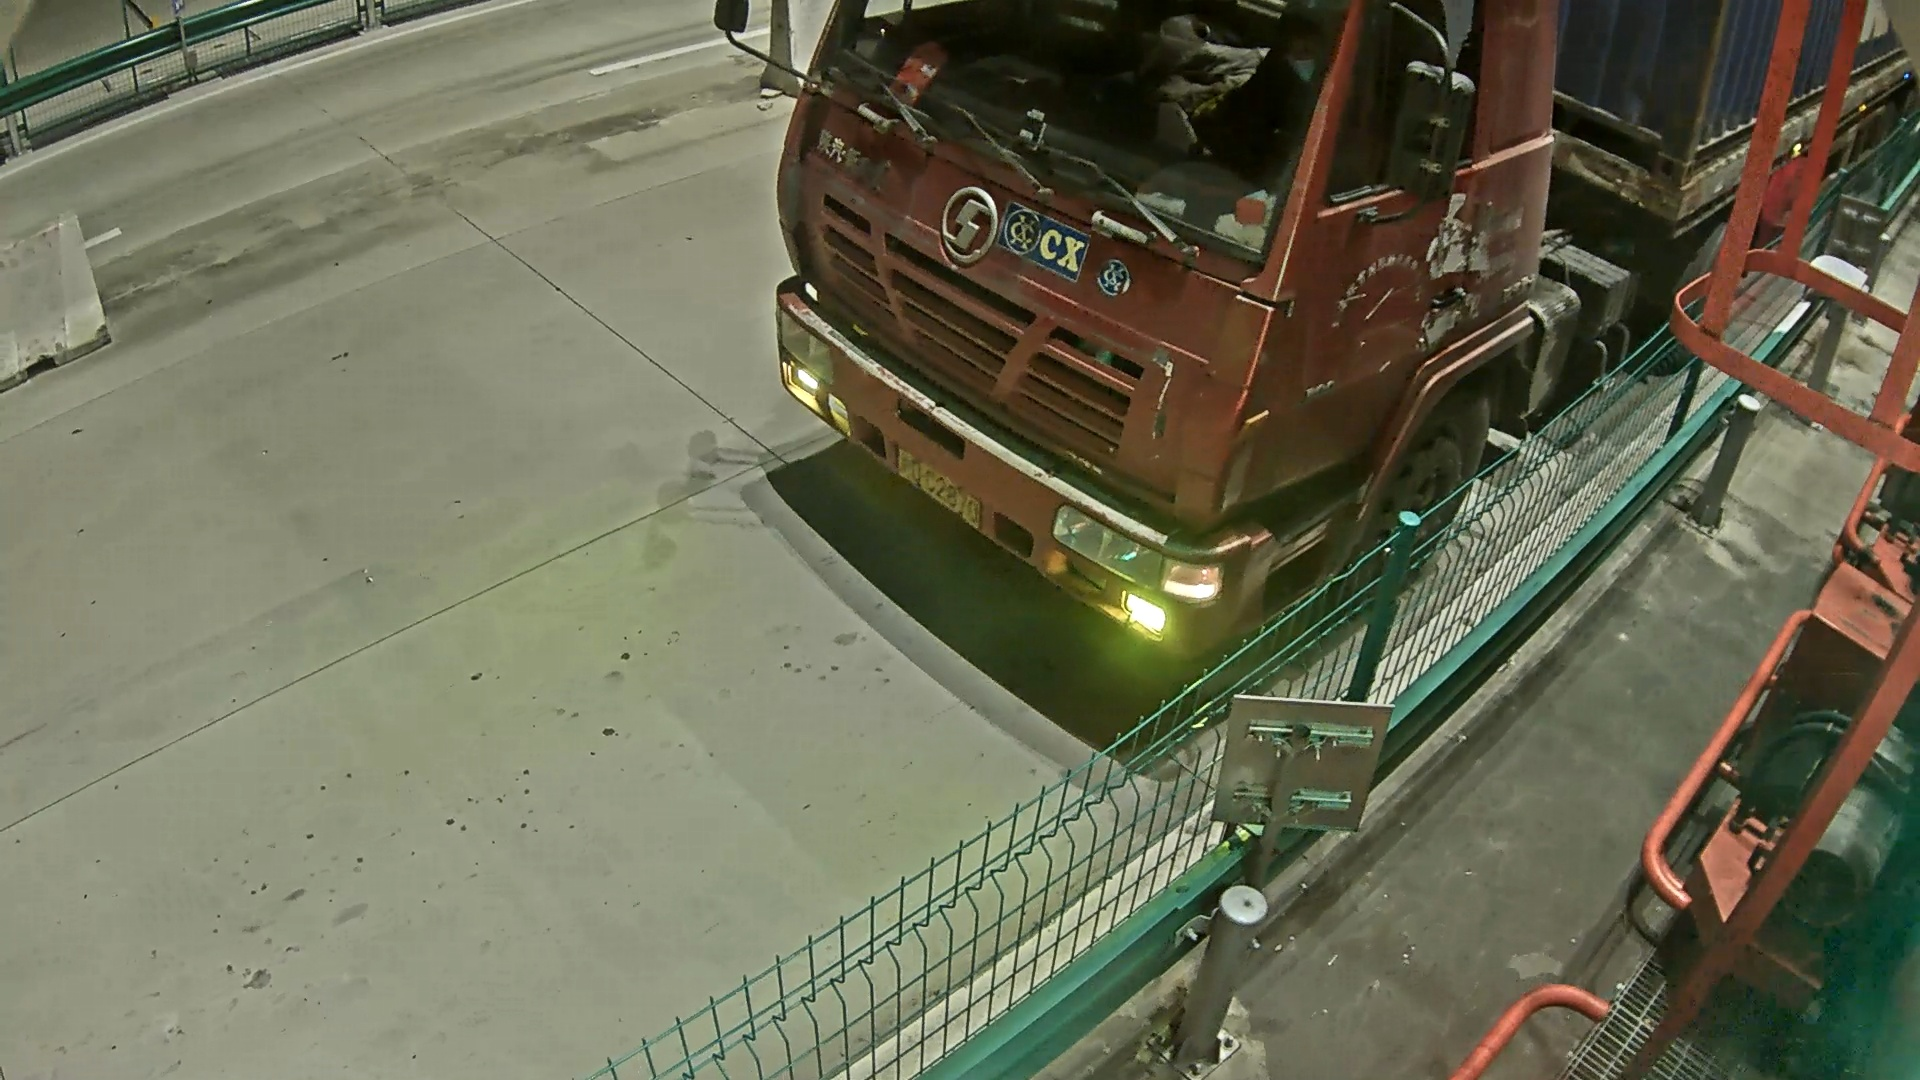head: (775, 35, 1362, 665)
plate: (895, 446, 988, 530)
